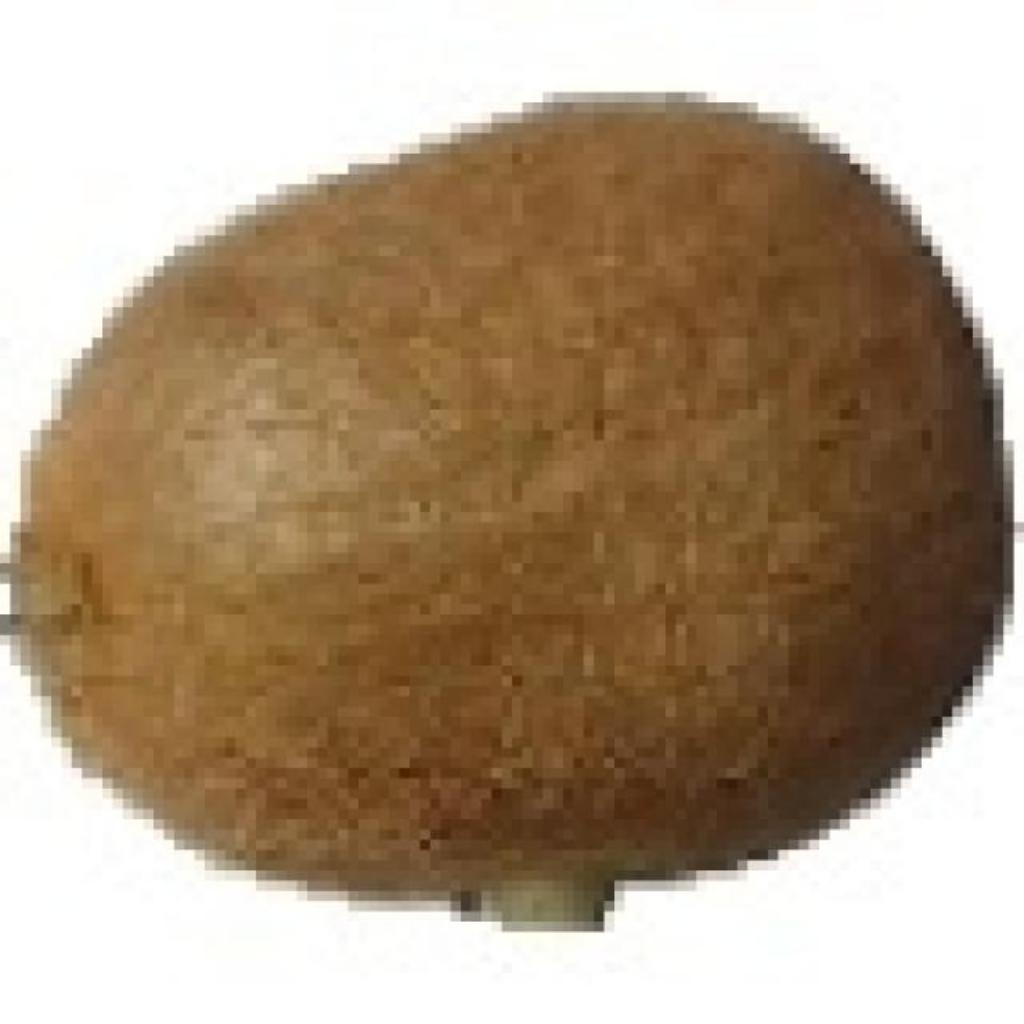kiwi: (10, 82, 993, 901)
